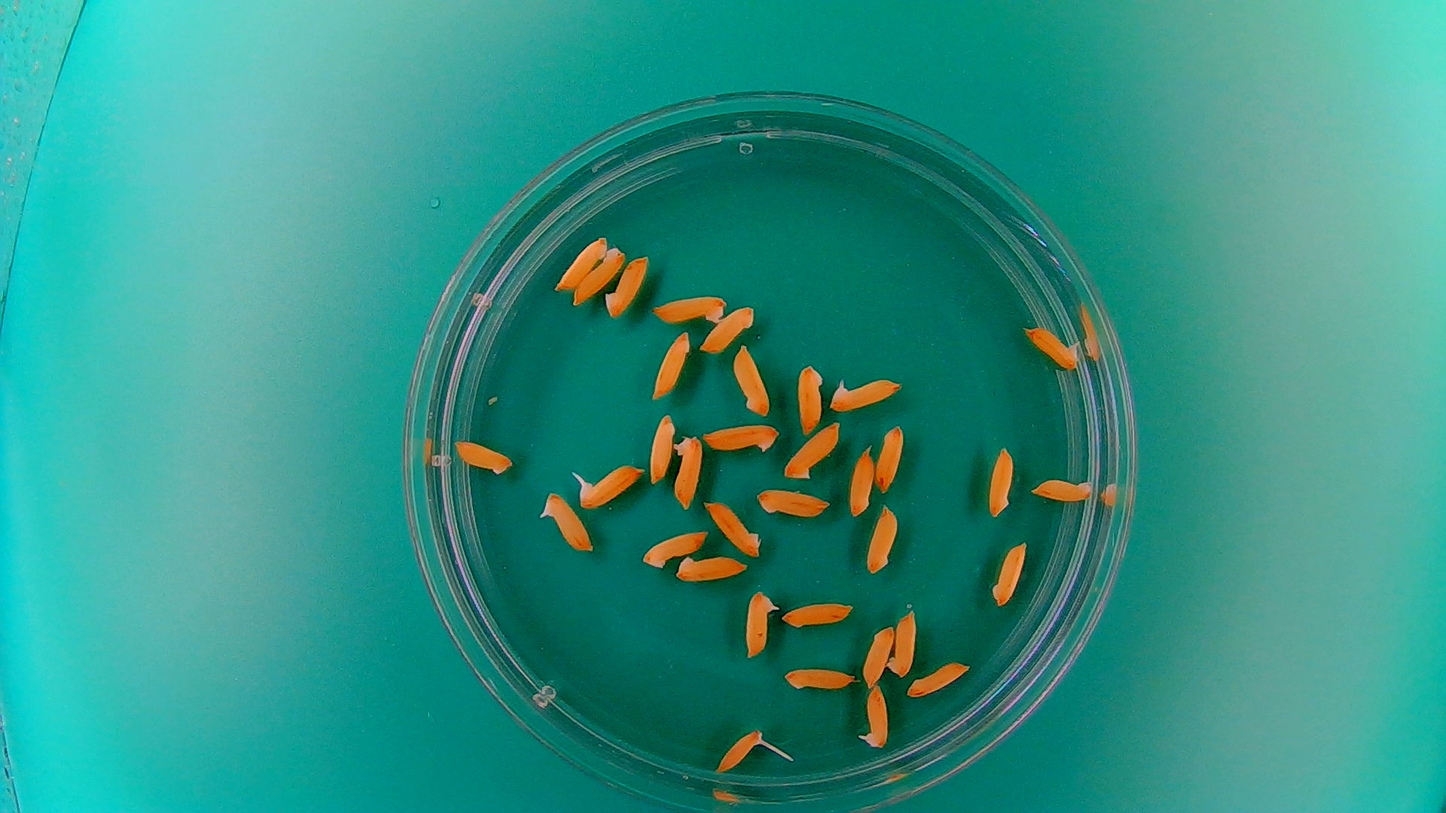no: (780, 419, 842, 482), (703, 496, 764, 557), (571, 244, 627, 307), (649, 327, 693, 400), (639, 525, 710, 570), (603, 253, 650, 320), (554, 233, 608, 291), (697, 303, 757, 355), (731, 341, 772, 416), (698, 419, 782, 455), (989, 537, 1030, 609), (755, 487, 831, 525), (906, 657, 973, 699), (670, 431, 705, 511), (651, 291, 730, 326), (865, 503, 901, 576), (673, 551, 750, 583), (779, 598, 856, 630), (452, 437, 515, 476), (886, 604, 918, 680), (859, 622, 895, 689), (872, 422, 905, 495), (846, 443, 877, 519), (794, 361, 825, 437), (781, 663, 857, 692), (987, 444, 1016, 519), (647, 410, 676, 483), (1028, 473, 1095, 504)
yes: (537, 489, 594, 555), (572, 459, 645, 510), (826, 372, 905, 413), (1022, 322, 1083, 370), (741, 587, 779, 662), (715, 724, 765, 774), (859, 682, 890, 751)
